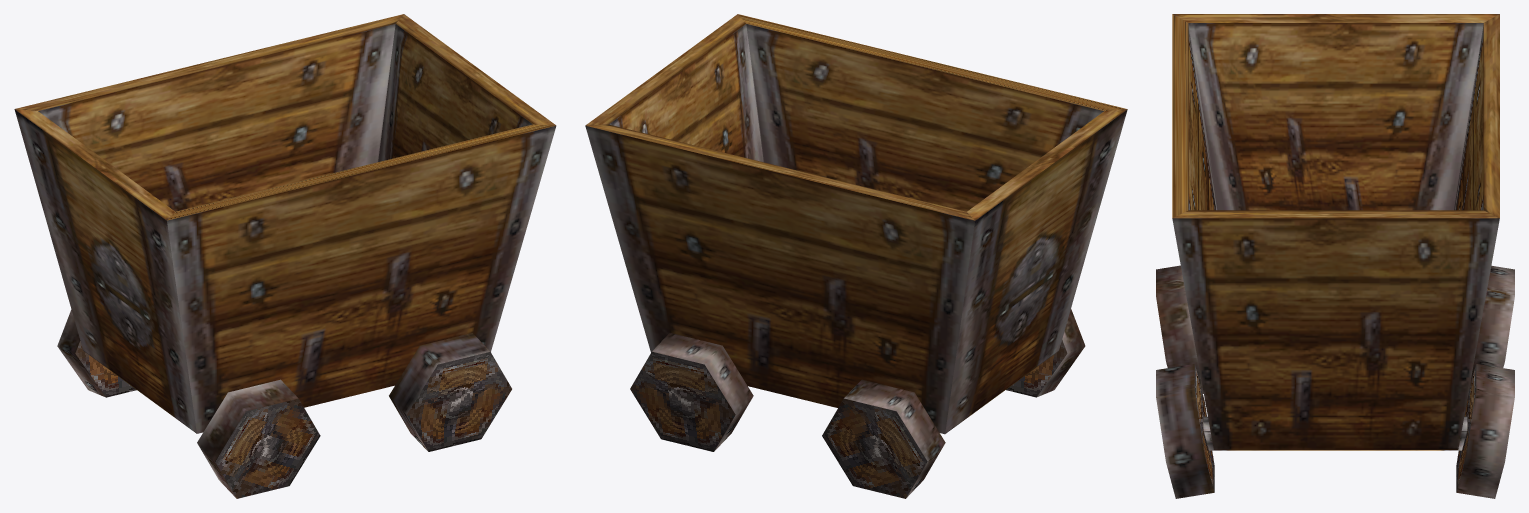
File: caveminecar01.glb
The picture shows the model from 3 angles, left to right: view 1: azimuth 30°, elevation 25°; view 2: azimuth 150°, elevation 25°; view 3: azimuth 270°, elevation 25°; orthographic projection. The views are drawn at different scales.
Bounding box in the file's own units: 2.05 × 1.49 × 1.52.
Materials: 3 (3 with a texture image).
